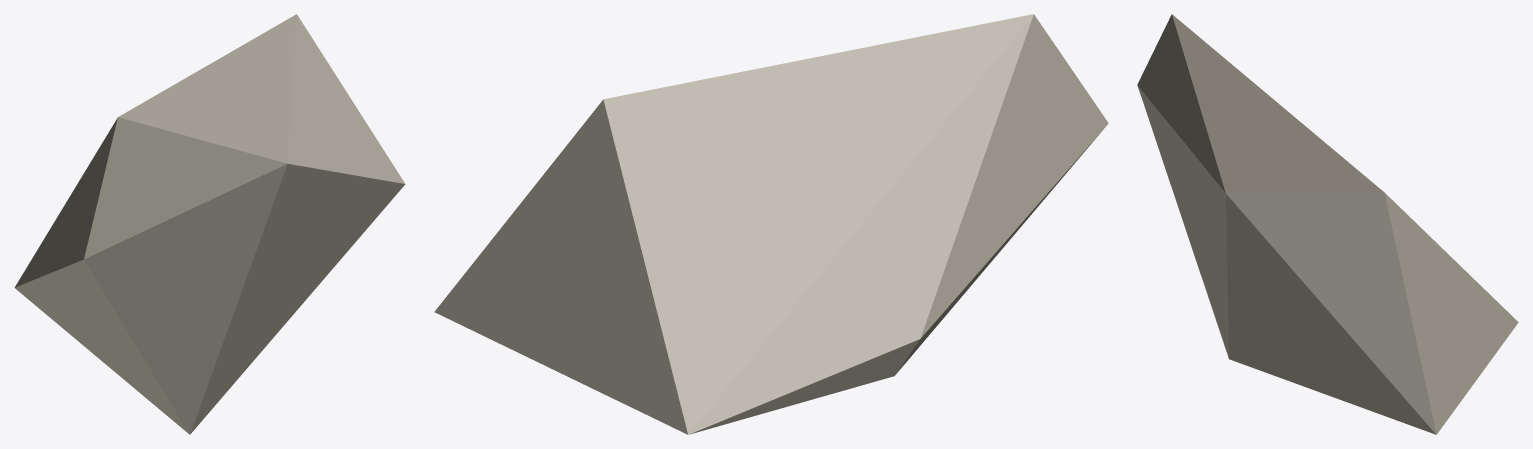
File: fx_debris_b.glb
3 views of the same model, side by side, from view 1: azimuth 30°, elevation 25°; view 2: azimuth 150°, elevation 25°; view 3: azimuth 270°, elevation 25° (orthographic). The views are drawn at different scales.
Parts seen in each view (by area): view 1: fx_debris_b__mesh; view 2: fx_debris_b__mesh; view 3: fx_debris_b__mesh.
Part boxes in pixels (box(x1,y1,x2,y2)): fx_debris_b__mesh: box(14, 14, 405, 434); fx_debris_b__mesh: box(434, 14, 1108, 434); fx_debris_b__mesh: box(1137, 14, 1518, 434).
Bounding box in the file's own units: 0.2 × 0.14 × 0.16.
1 material, 1 textured.
